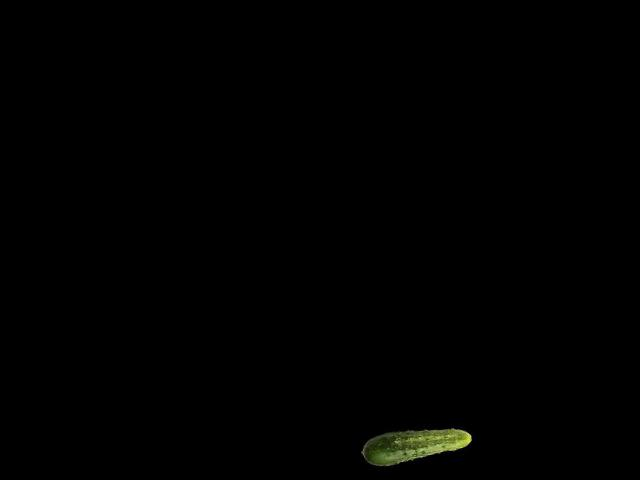cucumber: (358, 419, 473, 469)
